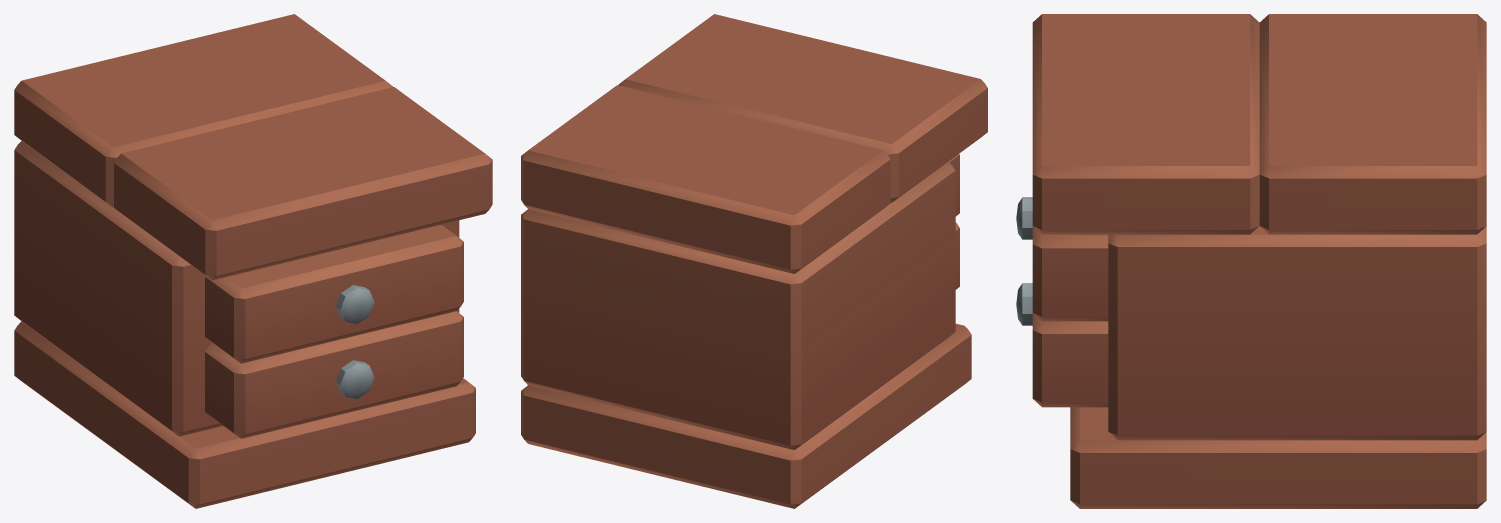
The model's file is bar_straight_b_short.glb.
The picture shows the model from 3 angles, left to right: view 1: azimuth 30°, elevation 25°; view 2: azimuth 150°, elevation 25°; view 3: azimuth 270°, elevation 25°; orthographic projection. The views are drawn at different scales.
Parts seen in each view (by area): view 1: bar_straight_B_short; view 2: bar_straight_B_short; view 3: bar_straight_B_short.
Boxes of the visible parts, left/top/right/bottom form: bar_straight_B_short: left=14, top=14, right=492, bottom=508; bar_straight_B_short: left=521, top=14, right=987, bottom=508; bar_straight_B_short: left=1016, top=14, right=1486, bottom=508.
Size of the model in its own units: 1 by 1 by 1.24.
Materials: 1 (1 with a texture image).
